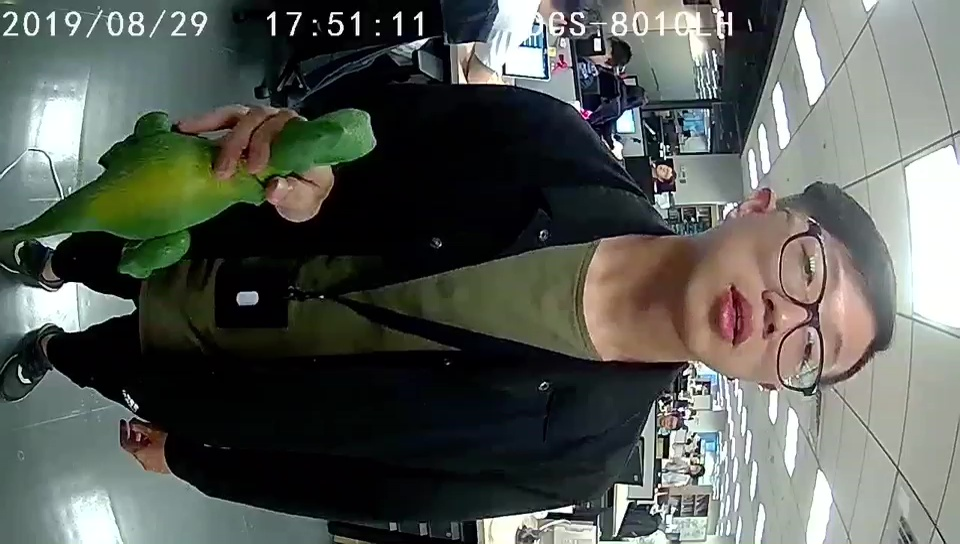rex: (66, 104, 379, 282)
